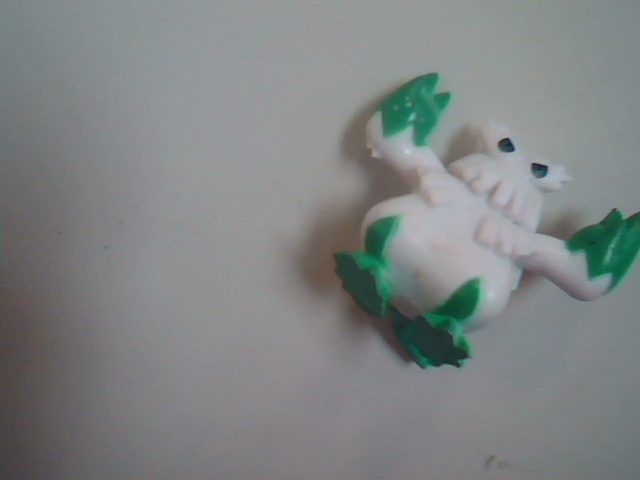abomasnow: (274, 52, 640, 390)
